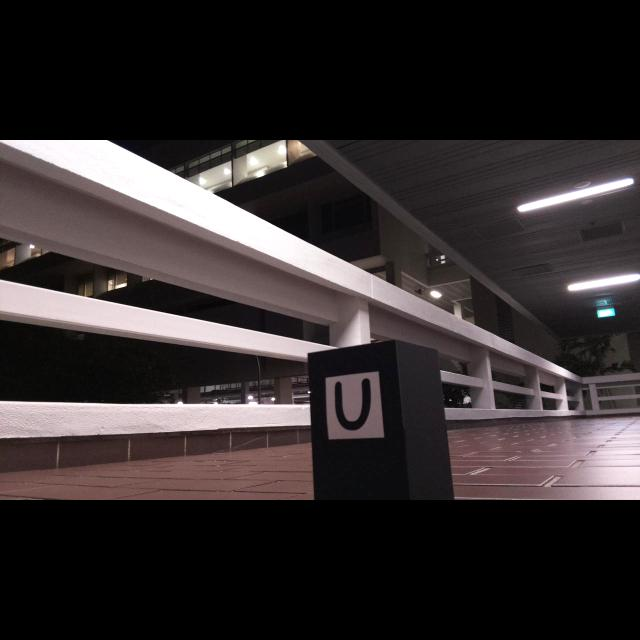U: (334, 378, 371, 431)
